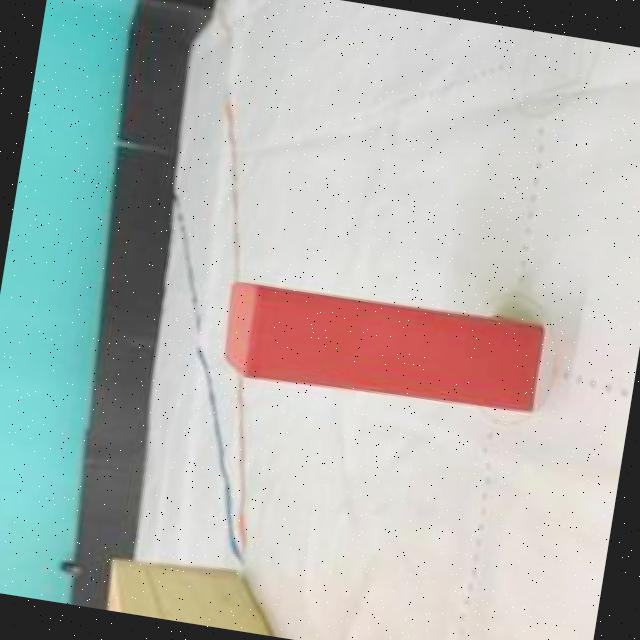redbox: (215, 277, 546, 418)
